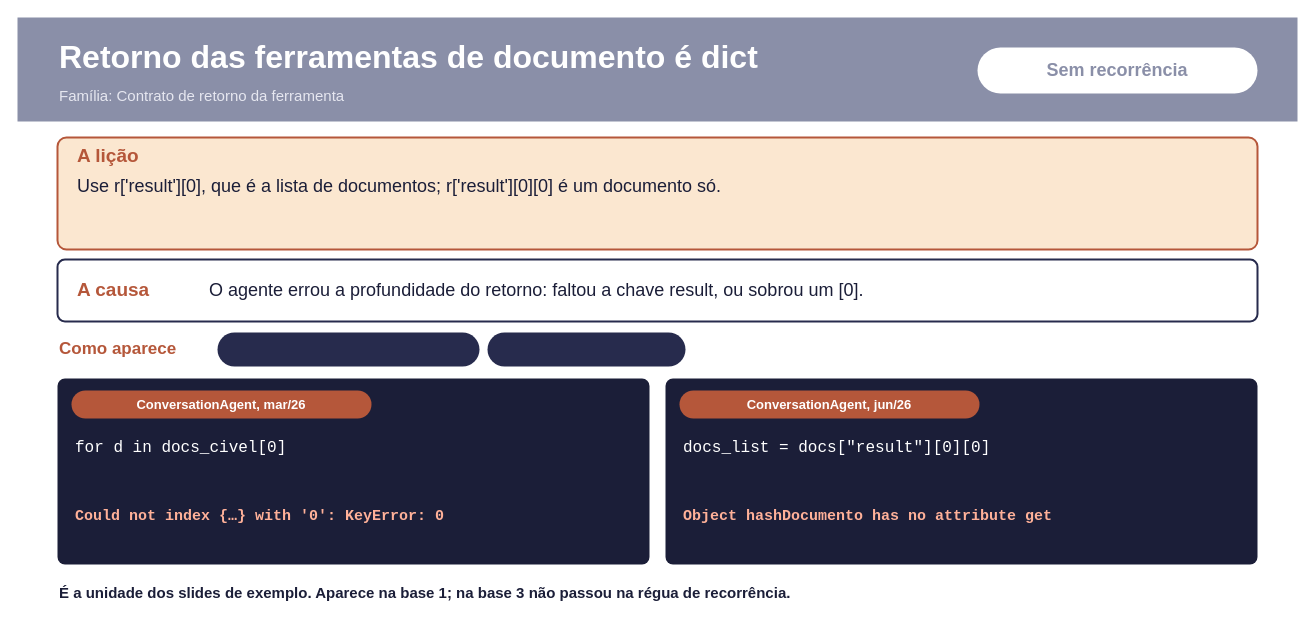
Image size: 1314x631. Some labels were removed from this diagram. The shapes that lost their labels are listed below. From the top down, each one's box as (x1, y1, x2, y2) in pixels, then its label:
(217, 332, 479, 366): Could not index (KeyError: 0)
(487, 332, 685, 366): Objeto sem o atributo
